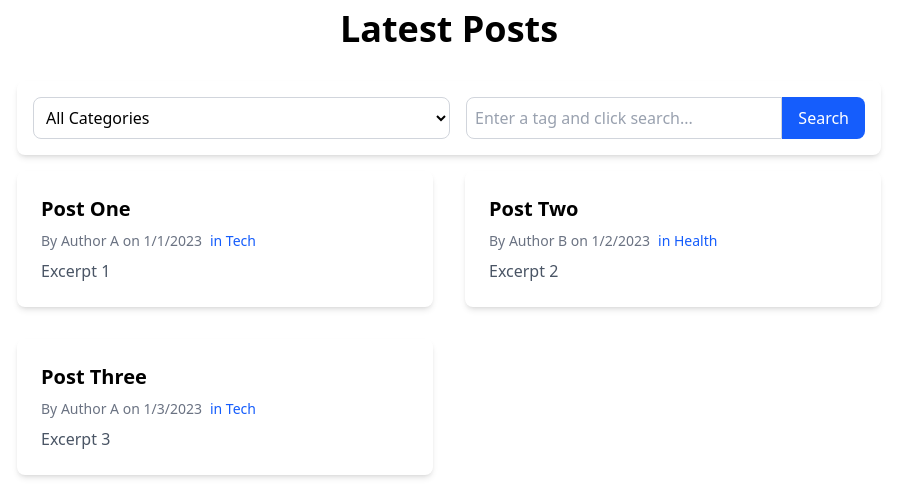
PublicPostList Component › should filter posts by selected category
The width and height of the screenshot is (899, 496).
Expected: the heading "Post One" is shown, [41, 195, 131, 222]
# Select 'Health' category
Select "Health" in the dropdown named "filter by category" at (242, 118), box [33, 97, 450, 139]
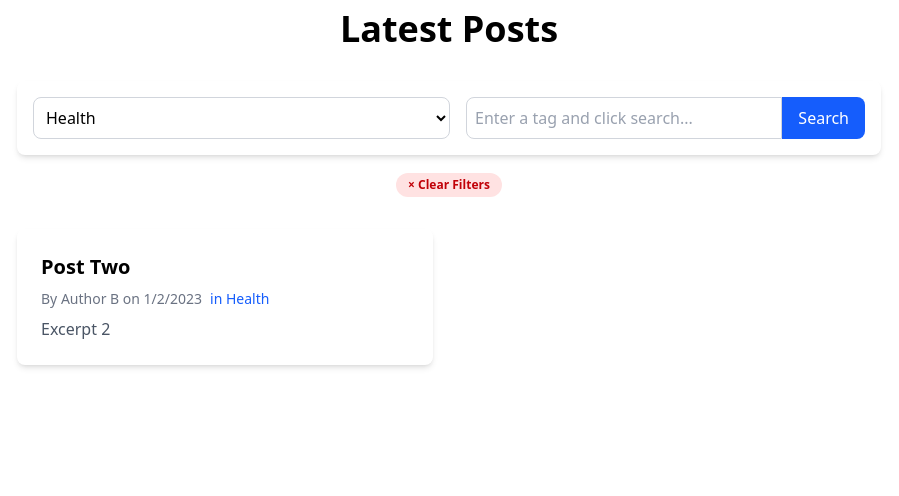
Expected: the heading "Post Two" is shown, [41, 253, 130, 280]
Now the link "Post One" is gone
